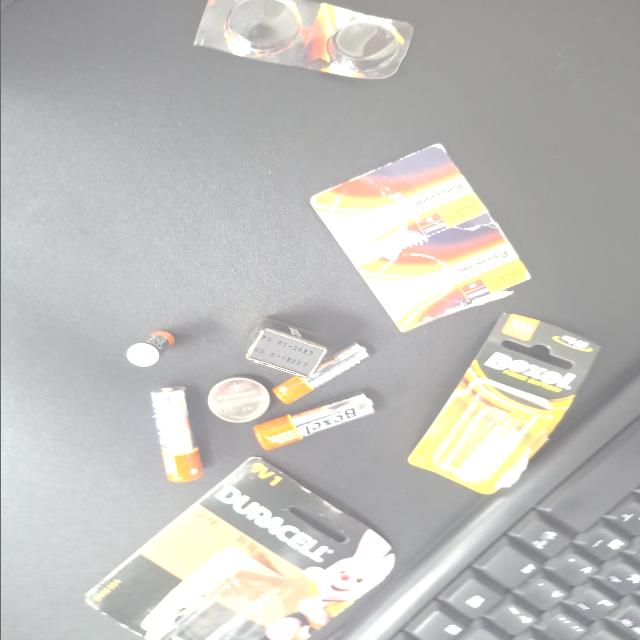9V: (210, 236, 290, 296)
AA: (310, 200, 386, 290), (302, 329, 430, 367)
AAA: (244, 204, 326, 276), (228, 350, 276, 386)
COIN: (289, 278, 350, 324)
